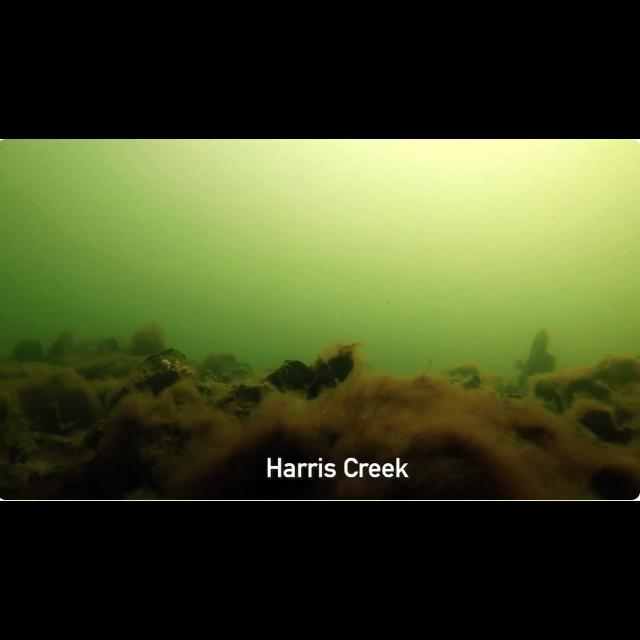Oyster-Closed: (574, 458, 640, 502), (559, 377, 625, 417), (123, 436, 183, 468), (589, 352, 640, 385), (268, 359, 316, 389), (579, 408, 617, 438), (142, 347, 190, 369), (230, 382, 278, 404), (26, 432, 74, 452), (312, 358, 340, 390), (534, 380, 562, 412), (527, 330, 553, 362), (328, 352, 356, 374), (452, 372, 482, 392), (191, 382, 219, 401), (226, 360, 258, 376), (83, 418, 107, 439), (197, 366, 219, 380), (231, 371, 253, 381)
Oyster-Open: (120, 368, 186, 400)
